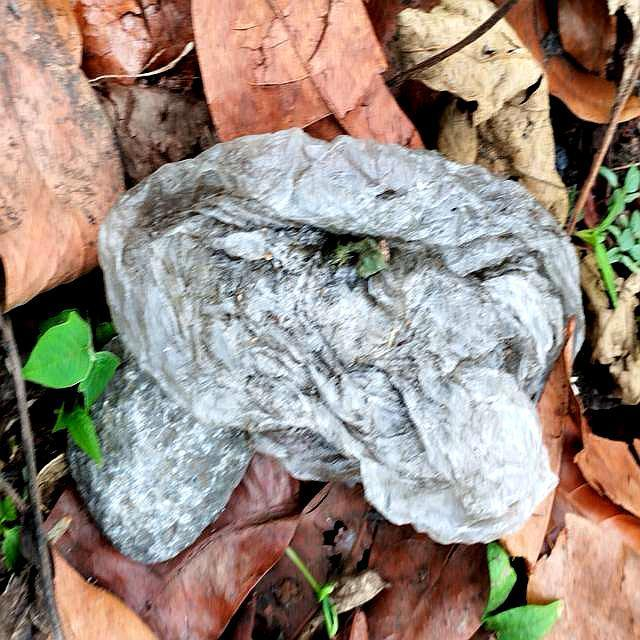Non-biodegradable: (66, 126, 587, 566)
